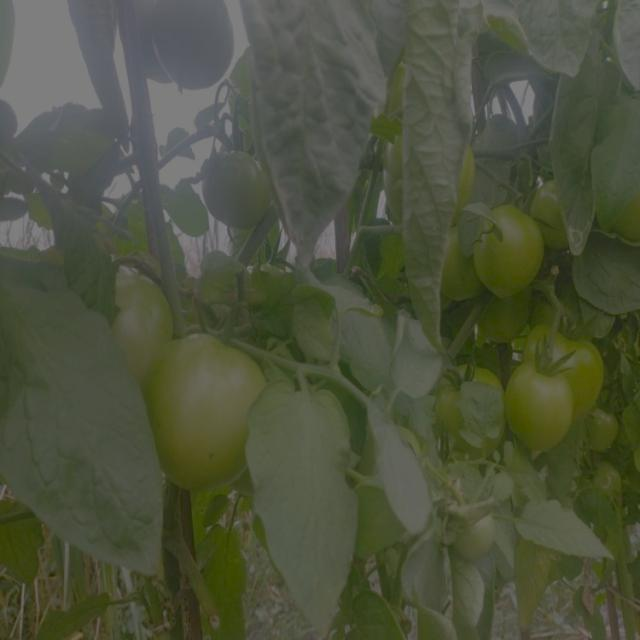tomato: (155, 329, 264, 470), (148, 1, 244, 93), (472, 200, 545, 303), (194, 149, 283, 228), (106, 267, 173, 370), (587, 129, 640, 252), (515, 349, 578, 443), (442, 366, 510, 449), (552, 315, 615, 390), (352, 482, 406, 550), (446, 499, 500, 562), (530, 173, 573, 239), (582, 460, 632, 515), (585, 398, 628, 451)
